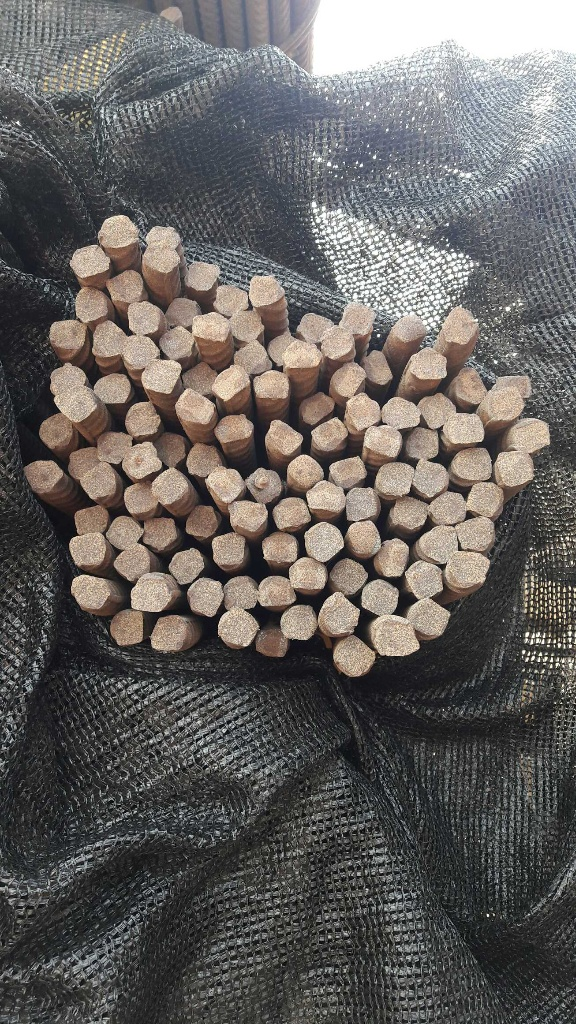dipstick: (320, 591, 360, 637), (333, 634, 376, 676), (375, 616, 420, 655), (129, 576, 171, 611), (47, 320, 90, 353), (219, 609, 255, 648), (329, 557, 368, 593), (512, 418, 551, 454), (451, 448, 494, 480), (412, 599, 449, 636), (305, 523, 343, 559), (70, 575, 107, 611), (405, 425, 442, 461), (407, 561, 444, 597), (74, 285, 112, 320), (451, 552, 489, 587), (99, 214, 138, 248), (444, 413, 485, 445), (178, 389, 214, 425), (150, 616, 186, 652), (143, 355, 178, 392), (187, 579, 222, 616), (126, 443, 164, 477), (362, 580, 400, 614), (414, 456, 448, 494), (496, 451, 534, 485), (365, 423, 404, 456), (428, 491, 467, 524), (444, 305, 476, 345), (69, 245, 110, 276), (52, 388, 94, 418), (207, 467, 242, 503), (466, 482, 502, 517), (153, 468, 187, 505), (266, 418, 303, 452), (423, 524, 457, 561), (253, 369, 291, 402), (348, 393, 381, 431), (391, 497, 429, 530), (379, 539, 411, 578), (126, 301, 163, 334), (419, 393, 456, 426), (380, 398, 422, 427), (230, 499, 268, 531), (273, 497, 311, 529), (377, 463, 415, 495), (407, 348, 447, 378), (66, 535, 106, 565), (92, 322, 126, 357), (168, 549, 203, 583), (345, 521, 380, 555), (213, 365, 249, 398), (211, 533, 247, 566), (307, 481, 345, 512), (486, 387, 524, 418), (124, 334, 158, 368), (25, 460, 60, 493), (282, 607, 315, 642), (262, 530, 297, 563), (125, 403, 162, 434), (287, 456, 324, 487), (120, 481, 158, 511), (109, 268, 143, 301), (112, 609, 145, 643), (290, 558, 324, 591), (456, 518, 489, 552), (153, 431, 185, 466), (333, 362, 365, 397), (159, 327, 195, 358), (94, 373, 130, 404), (299, 391, 335, 422), (234, 340, 271, 370), (215, 415, 253, 444), (249, 275, 284, 306), (109, 516, 144, 547), (114, 547, 149, 578), (345, 487, 380, 518), (96, 432, 132, 462), (193, 313, 230, 342), (142, 245, 180, 273), (182, 362, 215, 394), (185, 504, 217, 537), (246, 468, 279, 500), (343, 301, 374, 335), (260, 577, 295, 607), (314, 417, 349, 447), (299, 312, 335, 341), (65, 447, 101, 476), (284, 341, 321, 369), (81, 464, 112, 497), (224, 577, 256, 608), (189, 442, 220, 474), (214, 285, 248, 314), (330, 457, 366, 484), (231, 310, 262, 341), (185, 261, 218, 290), (455, 368, 484, 401), (39, 416, 70, 446), (144, 516, 174, 547), (323, 327, 355, 356), (364, 350, 391, 384), (73, 505, 107, 532), (257, 628, 287, 658), (393, 314, 426, 341), (48, 365, 85, 389), (146, 225, 180, 249), (165, 298, 196, 324), (269, 334, 294, 362)
